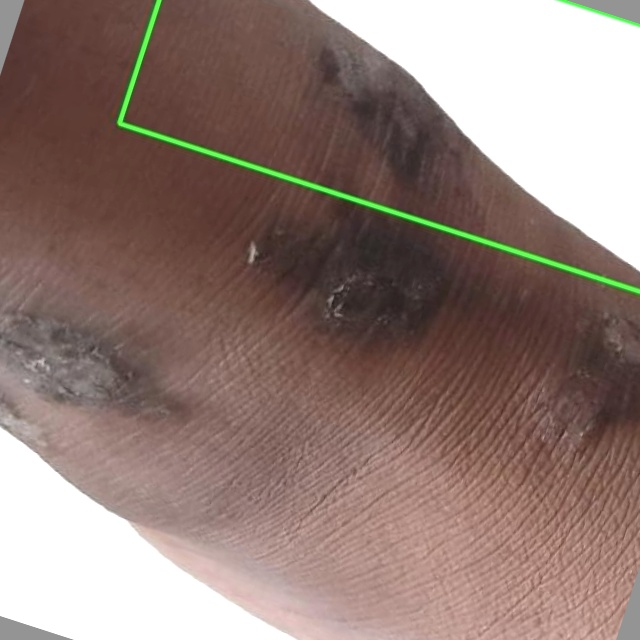Contact Dermatitis: (119, 0, 639, 291)
